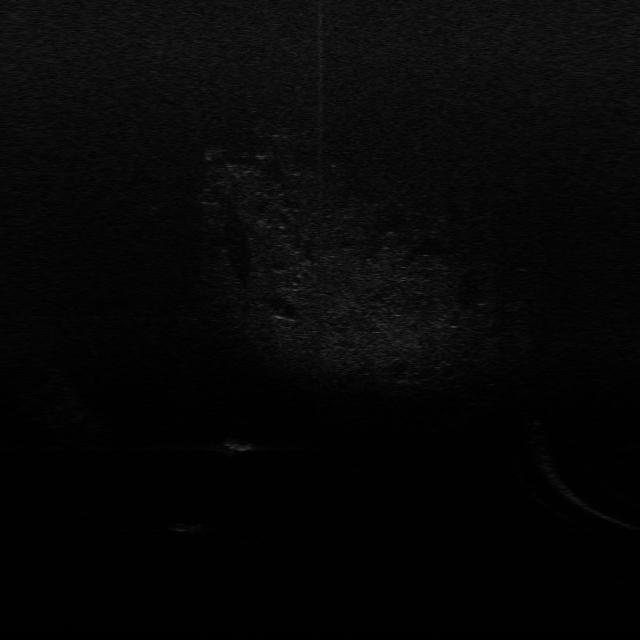cube: (164, 520, 207, 534)
square cage: (220, 435, 256, 454)
